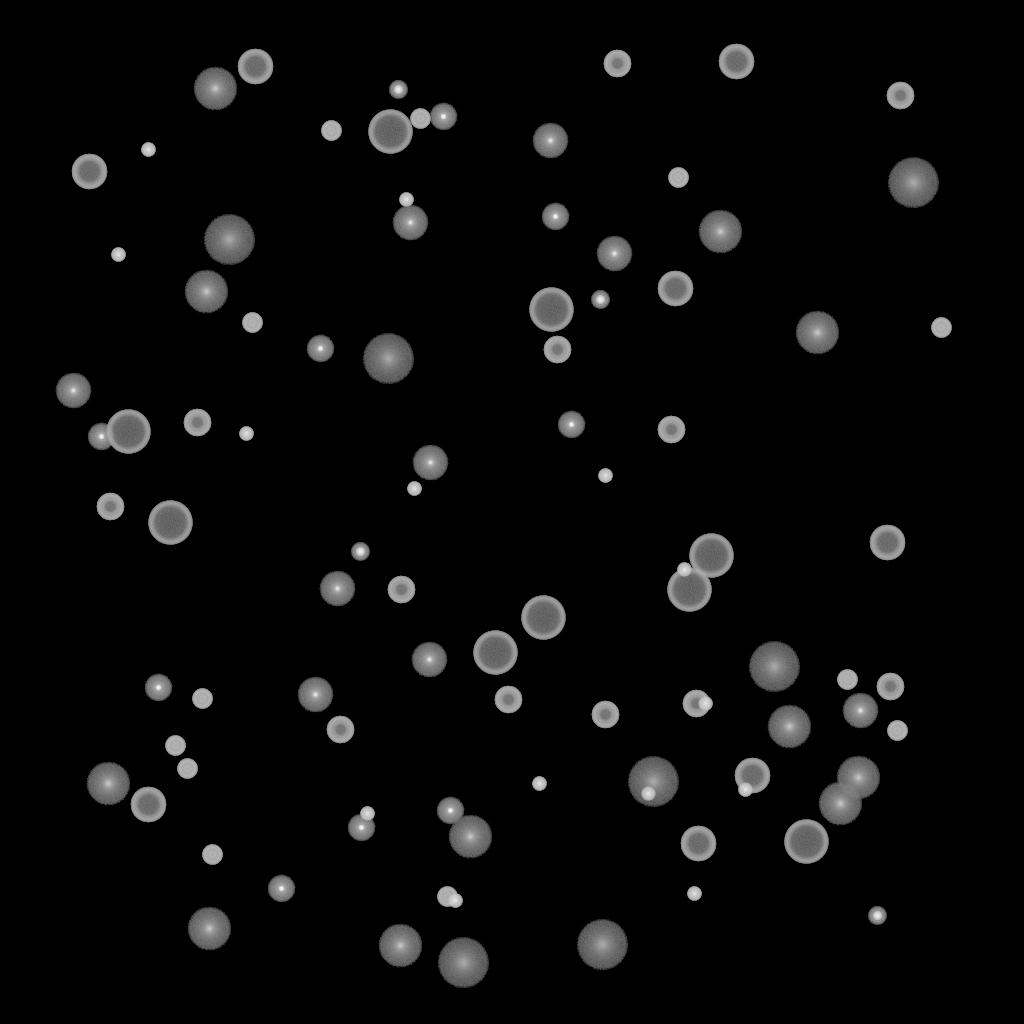depth:-10: (306, 335, 334, 363), (267, 875, 295, 903), (436, 797, 464, 825), (541, 203, 569, 231), (87, 423, 115, 451), (429, 103, 457, 131), (557, 411, 585, 439), (347, 814, 375, 842), (144, 674, 172, 702)
depth:-20: (591, 291, 609, 309), (351, 543, 369, 561), (868, 907, 886, 925), (389, 81, 407, 99)
depth:-30: (532, 777, 546, 791), (598, 469, 612, 483), (698, 697, 712, 711), (111, 248, 125, 262), (399, 193, 413, 207), (407, 482, 421, 496), (141, 143, 155, 157), (641, 787, 655, 801), (687, 887, 701, 901), (448, 894, 462, 908), (239, 427, 253, 441), (677, 563, 691, 577), (738, 783, 752, 797), (360, 807, 374, 821)
depth:-40: (321, 121, 341, 141), (202, 845, 222, 865), (192, 689, 212, 709), (177, 759, 197, 779), (668, 168, 688, 188), (165, 736, 185, 756), (887, 721, 907, 741), (437, 887, 457, 907), (931, 318, 951, 338), (242, 313, 262, 333), (837, 670, 857, 690), (410, 109, 430, 129)
depth:-50: (183, 409, 211, 437), (494, 686, 522, 714), (876, 673, 904, 701), (657, 416, 685, 444), (886, 82, 914, 110), (603, 50, 631, 78), (96, 493, 124, 521), (387, 576, 415, 604), (326, 716, 354, 744), (543, 336, 571, 364), (682, 690, 710, 718), (591, 701, 619, 729)
depth:-60: (71, 154, 107, 190), (718, 44, 754, 80), (869, 525, 905, 561), (657, 271, 693, 307), (237, 49, 273, 85), (680, 826, 716, 862), (734, 758, 770, 794), (130, 787, 166, 823)
depth:-70: (368, 110, 412, 154), (106, 410, 150, 454), (667, 568, 711, 612), (473, 631, 517, 675), (148, 501, 192, 545), (784, 820, 828, 864), (529, 288, 573, 332), (521, 596, 565, 640), (689, 534, 733, 578)
depth:0: (842, 693, 878, 729), (596, 236, 632, 272), (297, 677, 333, 713), (411, 642, 447, 678), (532, 123, 568, 159), (412, 445, 448, 481), (319, 571, 355, 607), (55, 373, 91, 409), (392, 205, 428, 241)
depth:10: (795, 311, 839, 355), (836, 756, 880, 800), (193, 67, 237, 111), (767, 705, 811, 749), (187, 907, 231, 951), (818, 782, 862, 826), (448, 815, 492, 859), (698, 210, 742, 254), (184, 270, 228, 314), (86, 762, 130, 806), (378, 924, 422, 968)
depth:20: (362, 334, 414, 384), (627, 757, 679, 807), (887, 158, 939, 208), (576, 920, 628, 970), (437, 938, 489, 988), (203, 215, 255, 265), (748, 642, 800, 692)
